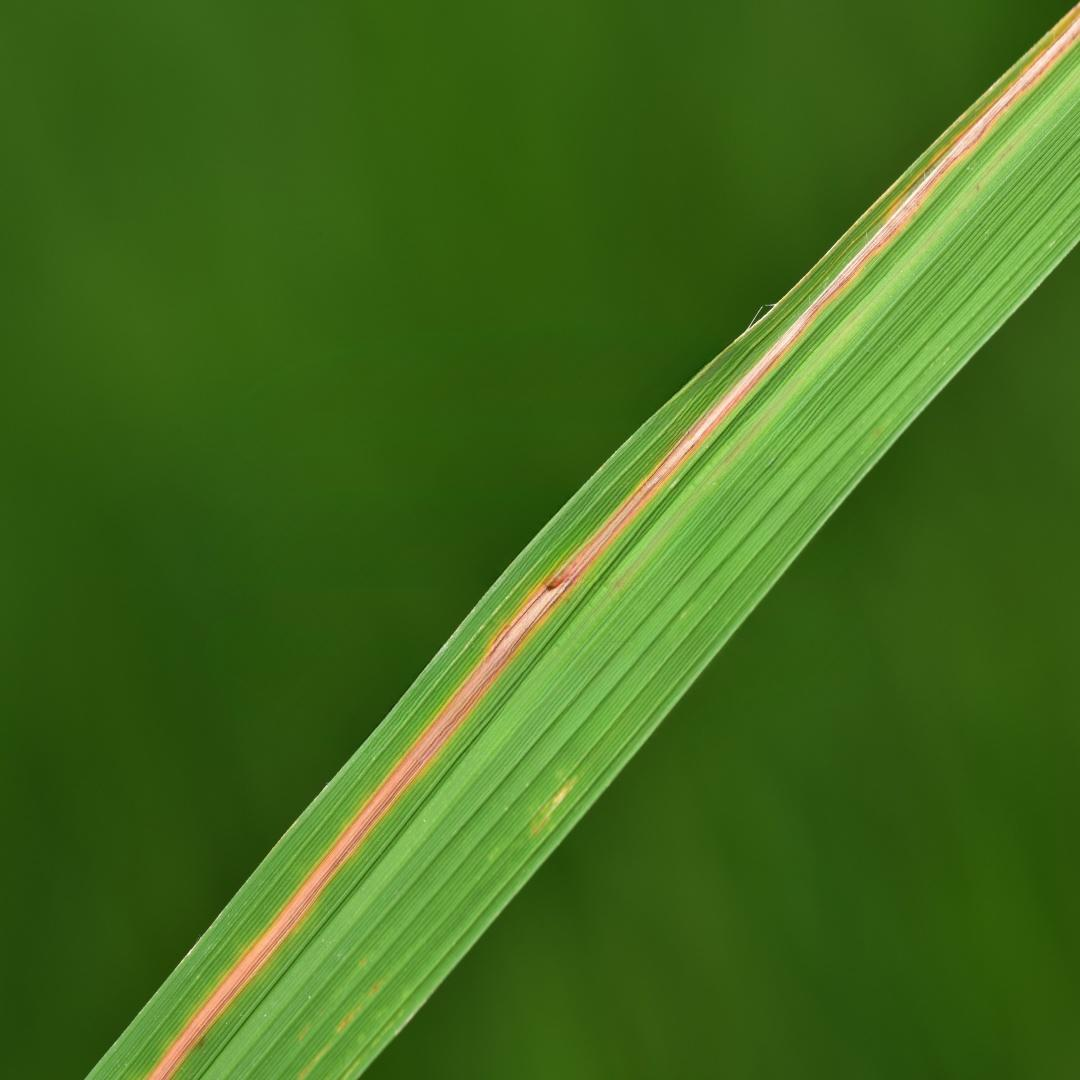BLB: (148, 15, 1079, 1079)
LEAF: (90, 3, 1079, 1079)
